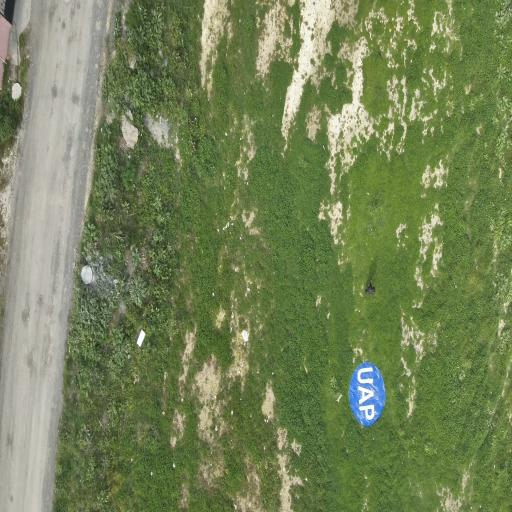UAP: (349, 363, 385, 426)
person: (366, 282, 375, 295)
